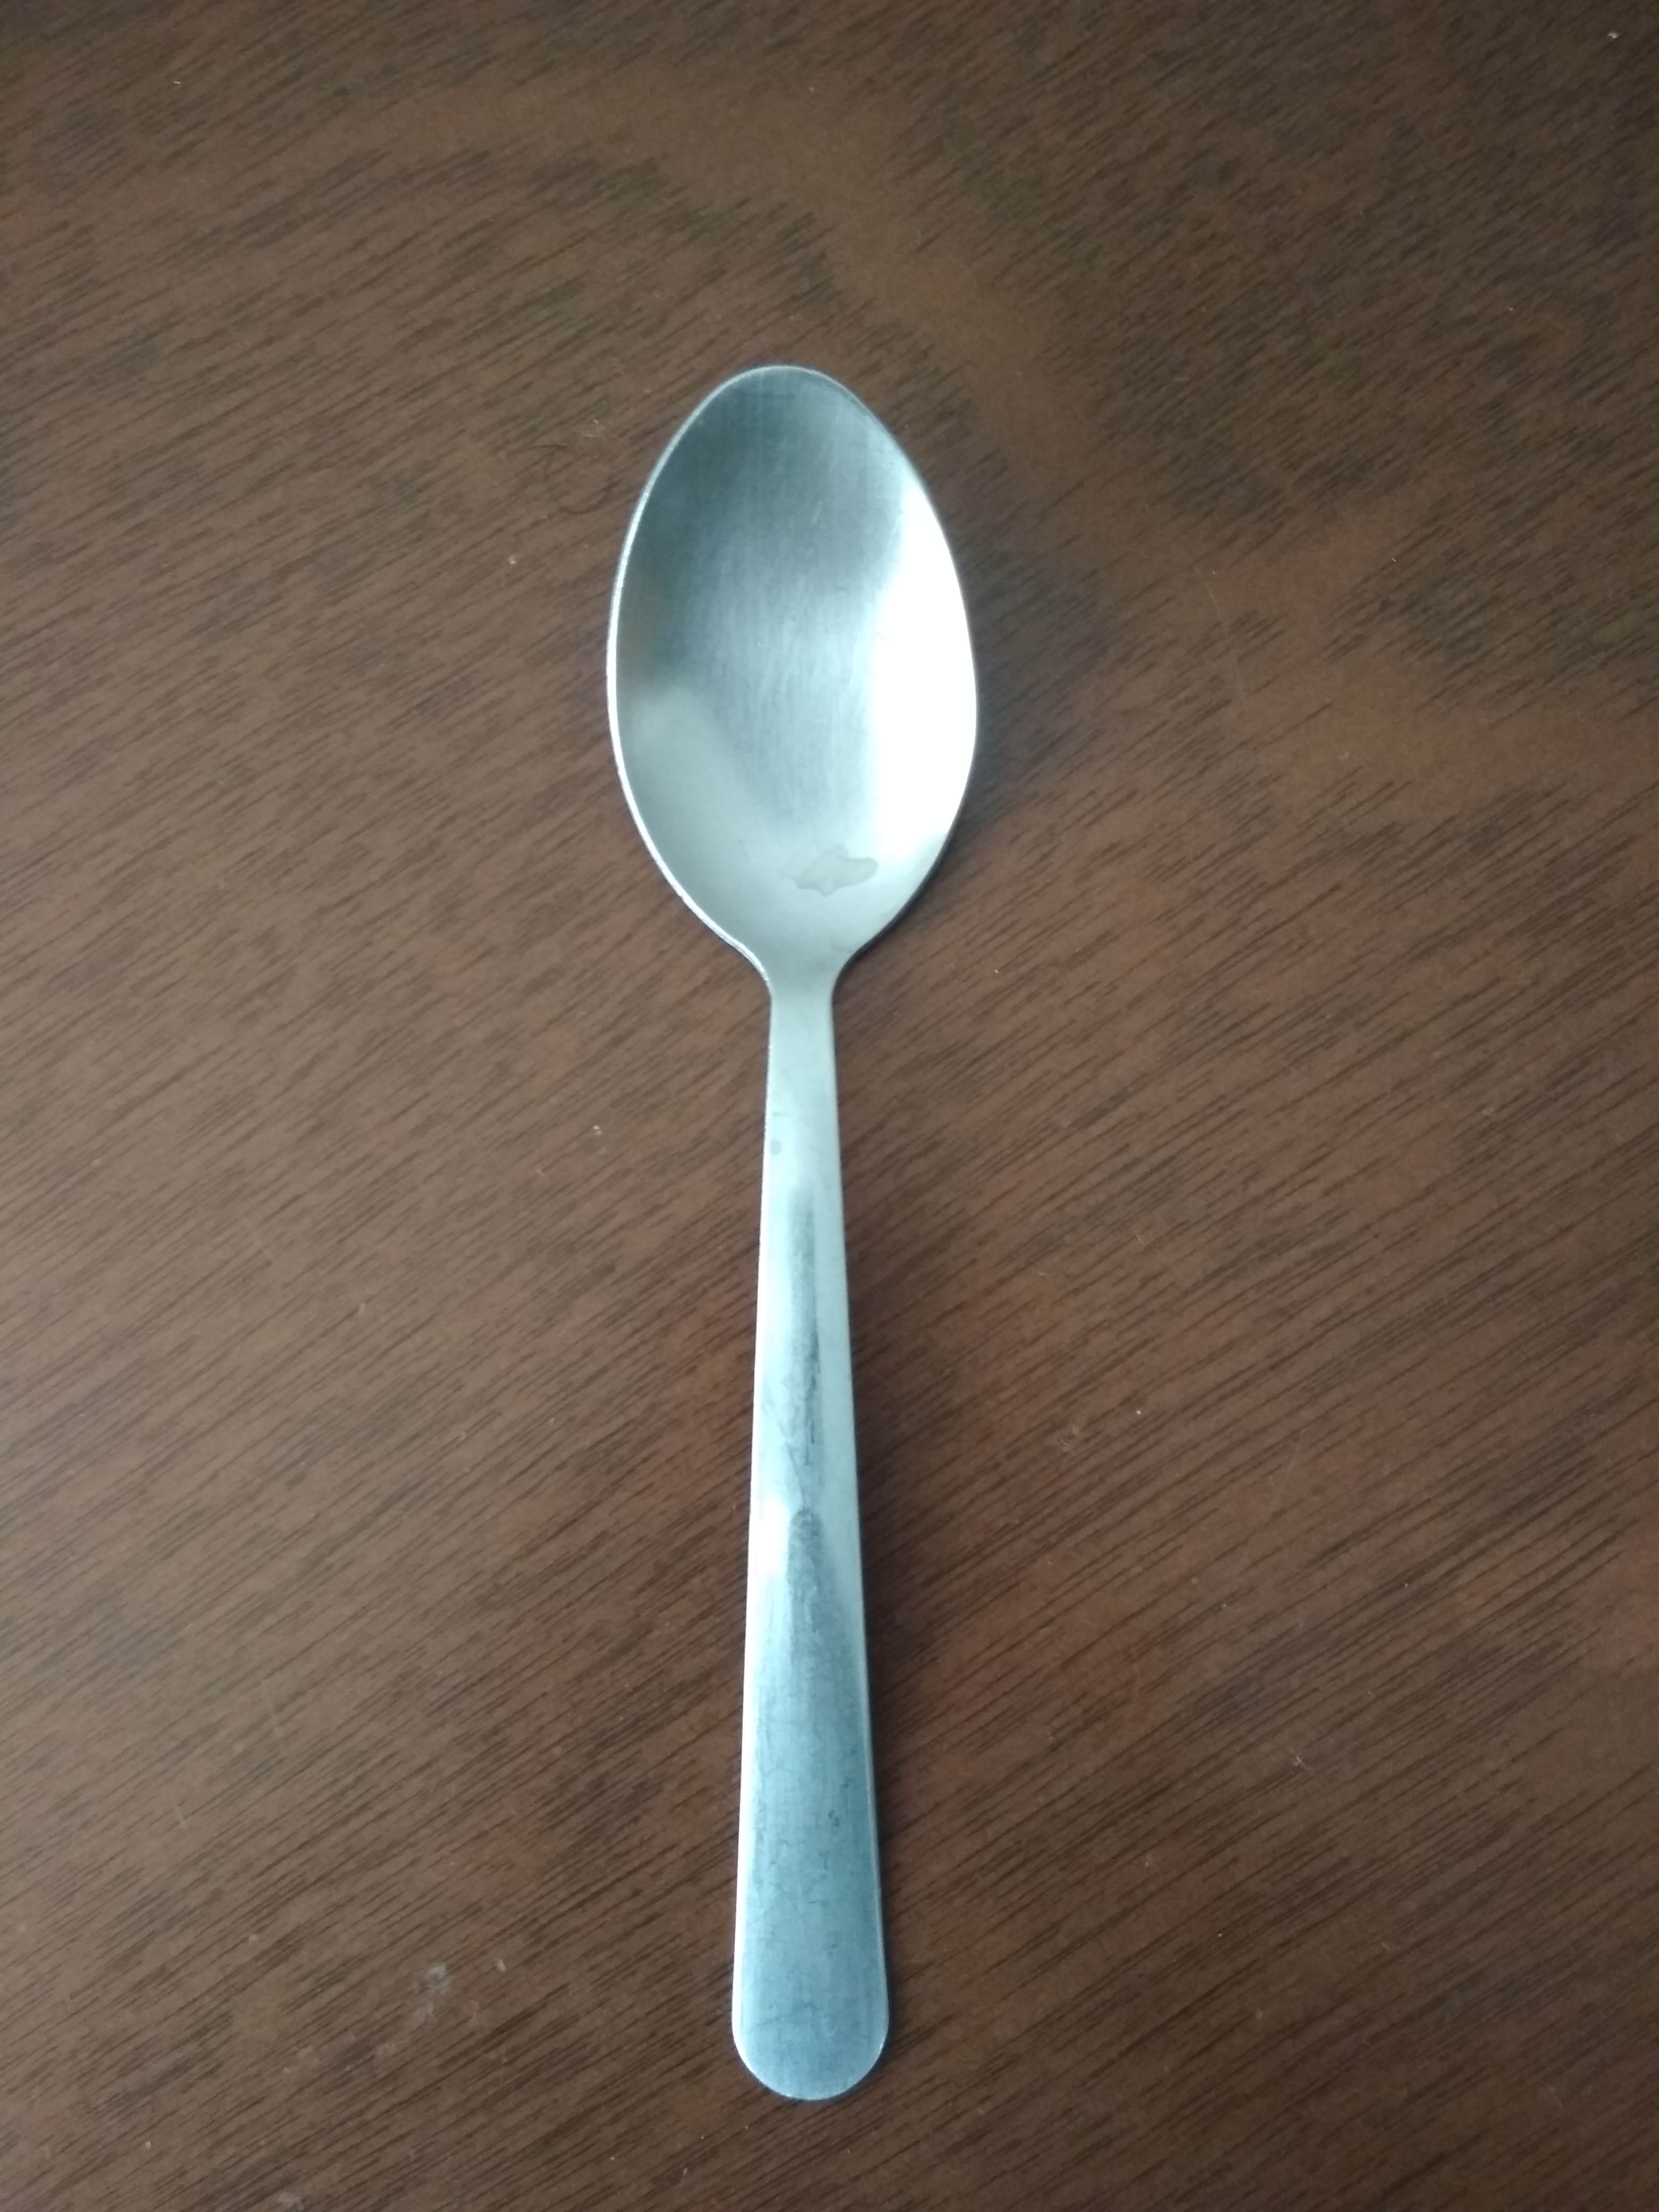spoon: (577, 340, 1011, 2114)
